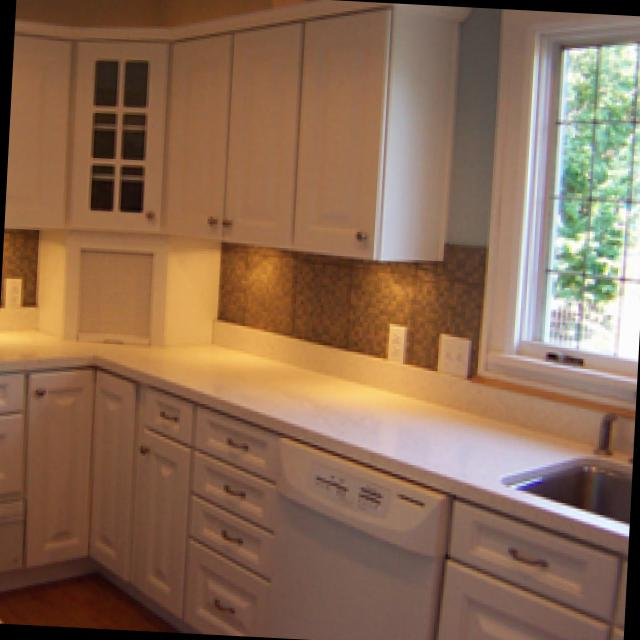2001: (482, 9, 640, 404)
cabinet door: (439, 492, 628, 640), (40, 230, 229, 346)
cabinets: (7, 0, 471, 258), (0, 366, 284, 632)
ceiling beam: (17, 0, 294, 29)
counter bottom: (2, 328, 634, 548)
dishwasher: (264, 439, 456, 640)
floor -X: (0, 573, 171, 625)
sink basin: (505, 454, 631, 521)
wall outlets: (440, 332, 475, 376), (391, 321, 410, 362), (8, 276, 29, 304)
